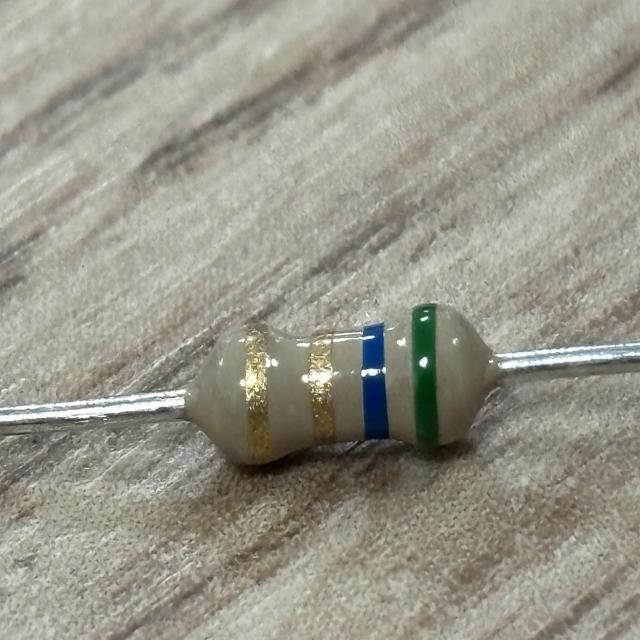resistor: (209, 298, 476, 476)
